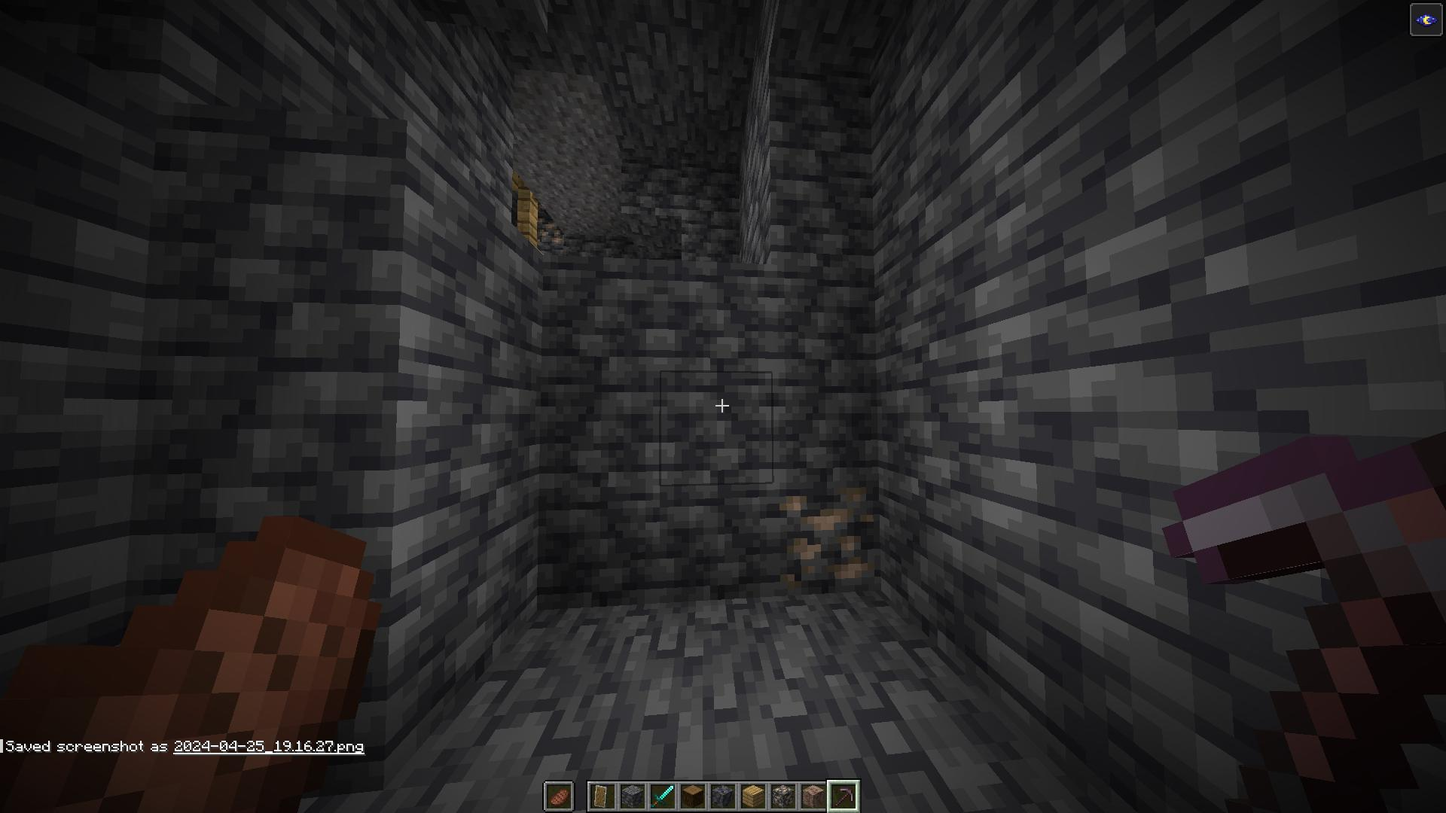iron ore: (535, 216, 565, 246)
